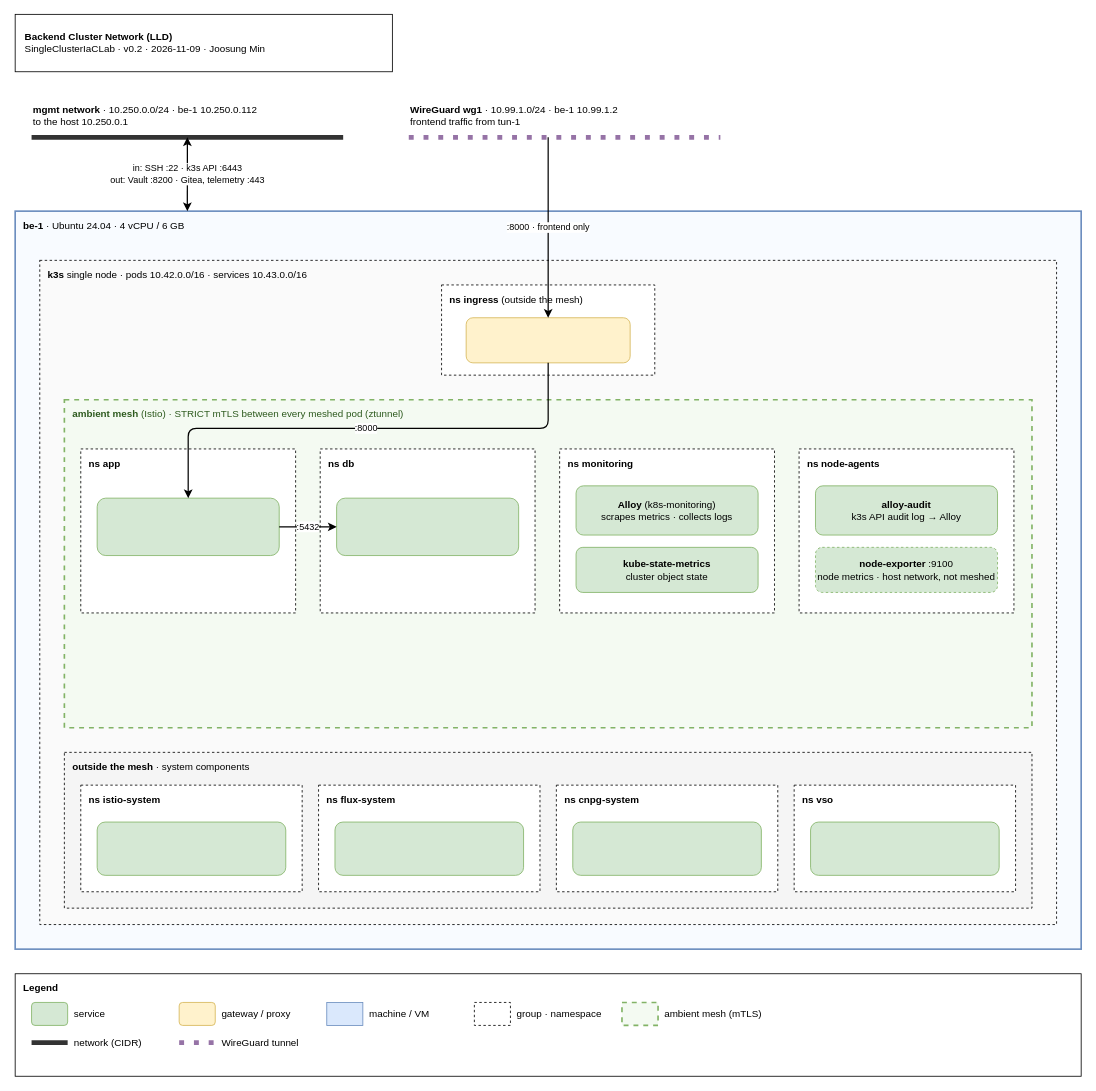
Some shapes in this 1096 by 1091 pixel diagram are drawn without their labels. Each missing label, with the centre of its shape:
"api (Flask) :8000 · metrics :9090" belongs at [187,526].
"CNPG operator runs postgres" belongs at [666,848].
"Flux GitOps: syncs from Gitea" belongs at [429,848].
"Istio Gateway (backend) :8000" belongs at [547,340].
"istiod (mesh control plane) ztunnel · istio-cni" belongs at [191,848].
"postgres (CloudNativePG) :5432 · service postgres-rw" belongs at [427,526].
"Vault Secrets Operator Vault KV → Secret" belongs at [904,848].
